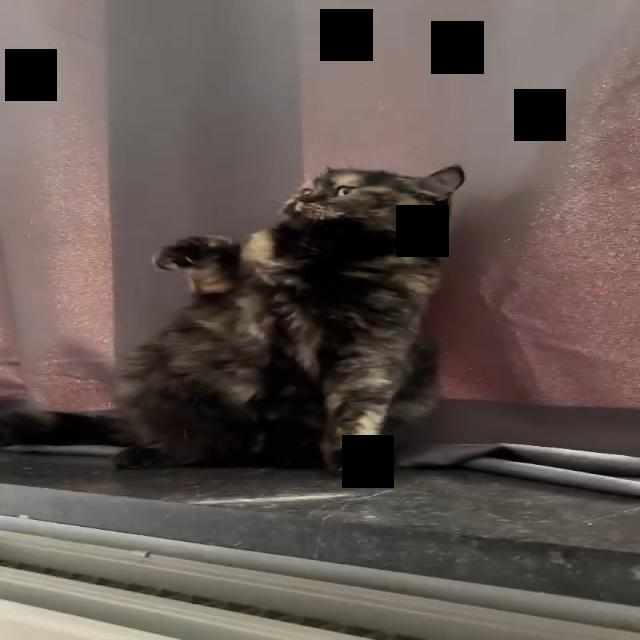authorized: (1, 162, 467, 478)
